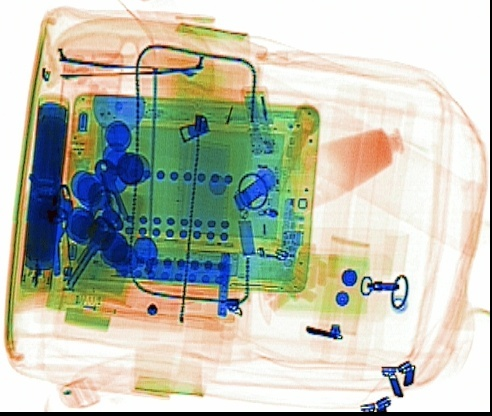powerbank: (15, 91, 70, 293)
